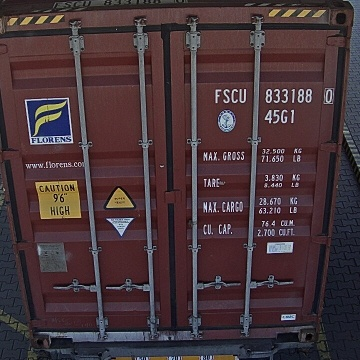serial_id: (215, 88, 333, 103)
